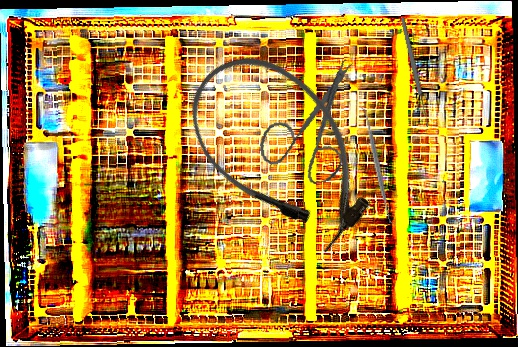Cannula: (164, 28, 400, 273)
Iris Scissors: (246, 57, 375, 193)
Spatula Surgical: (357, 102, 397, 228)
Surgical Spoon: (399, 16, 431, 128)
